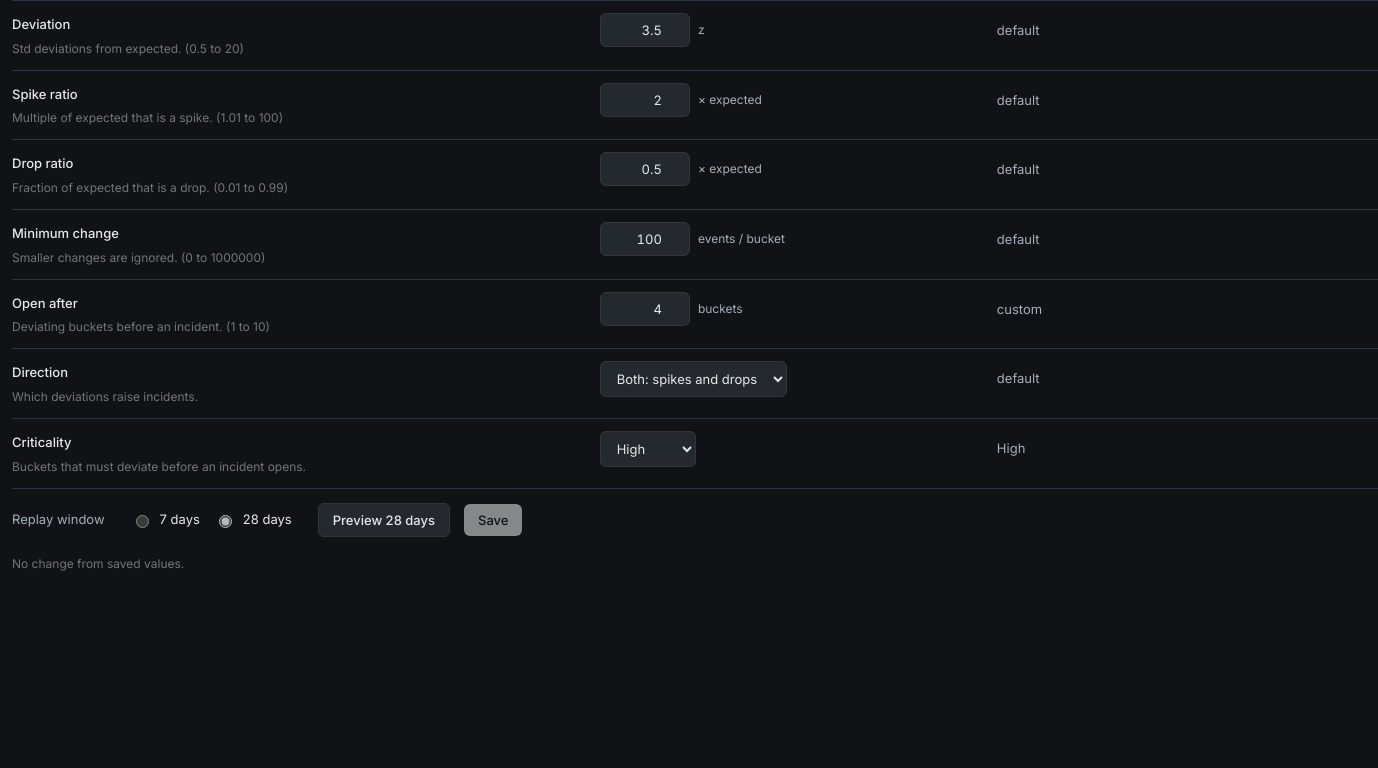
Test case: the tuning form › warns that a narrower direction closes open incidents, only when it does
The image size is (1378, 768).
Check: the text "closes open incidents" is not shown
Select "Spikes only" in the dropdown labelled "Direction". click: [693, 379]
box: top-left (600, 361), bottom-right (787, 397)
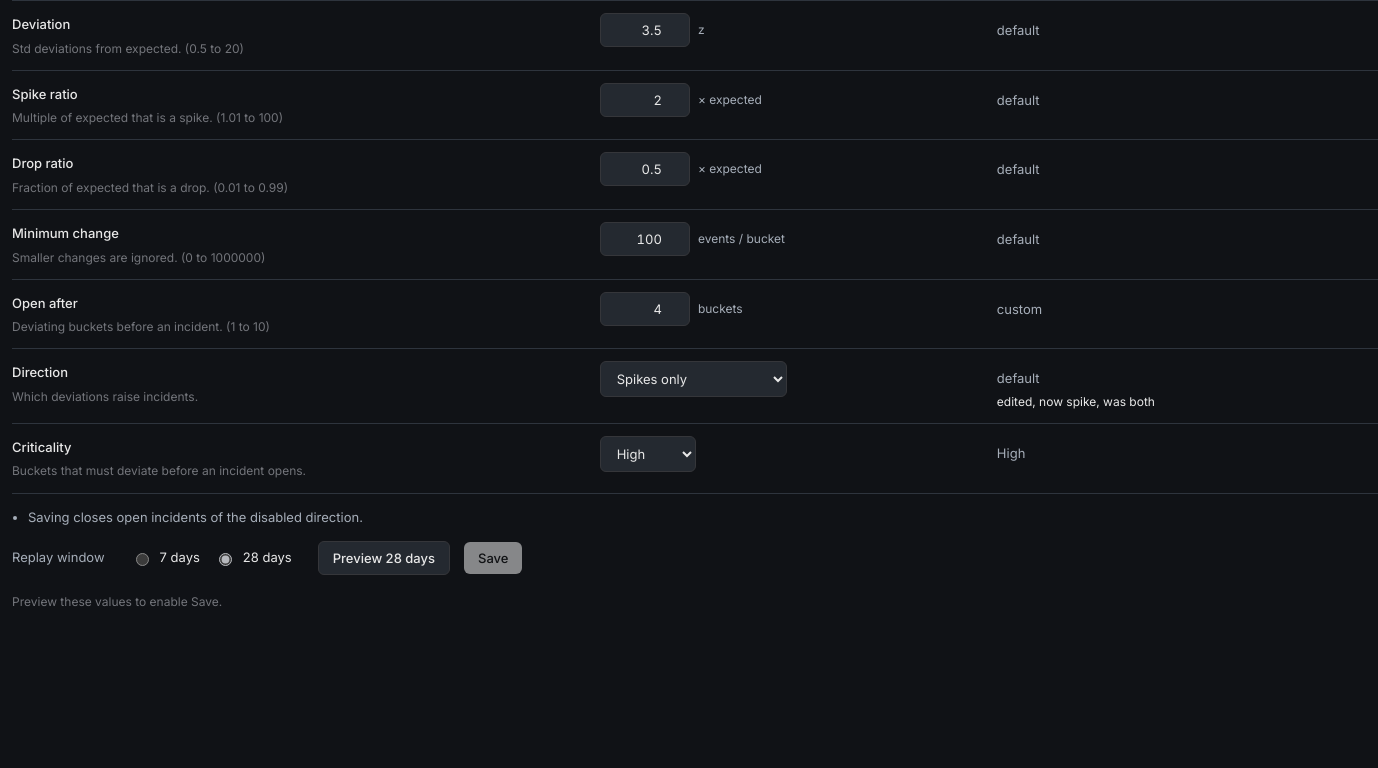
Check: the list item "Saving closes open incidents of the disabled direction." is shown, box top-left (28, 509), bottom-right (363, 525)
Select "Both: spikes and drops" in the dropdown labelled "Direction". click: [693, 379]
box: top-left (600, 361), bottom-right (787, 397)
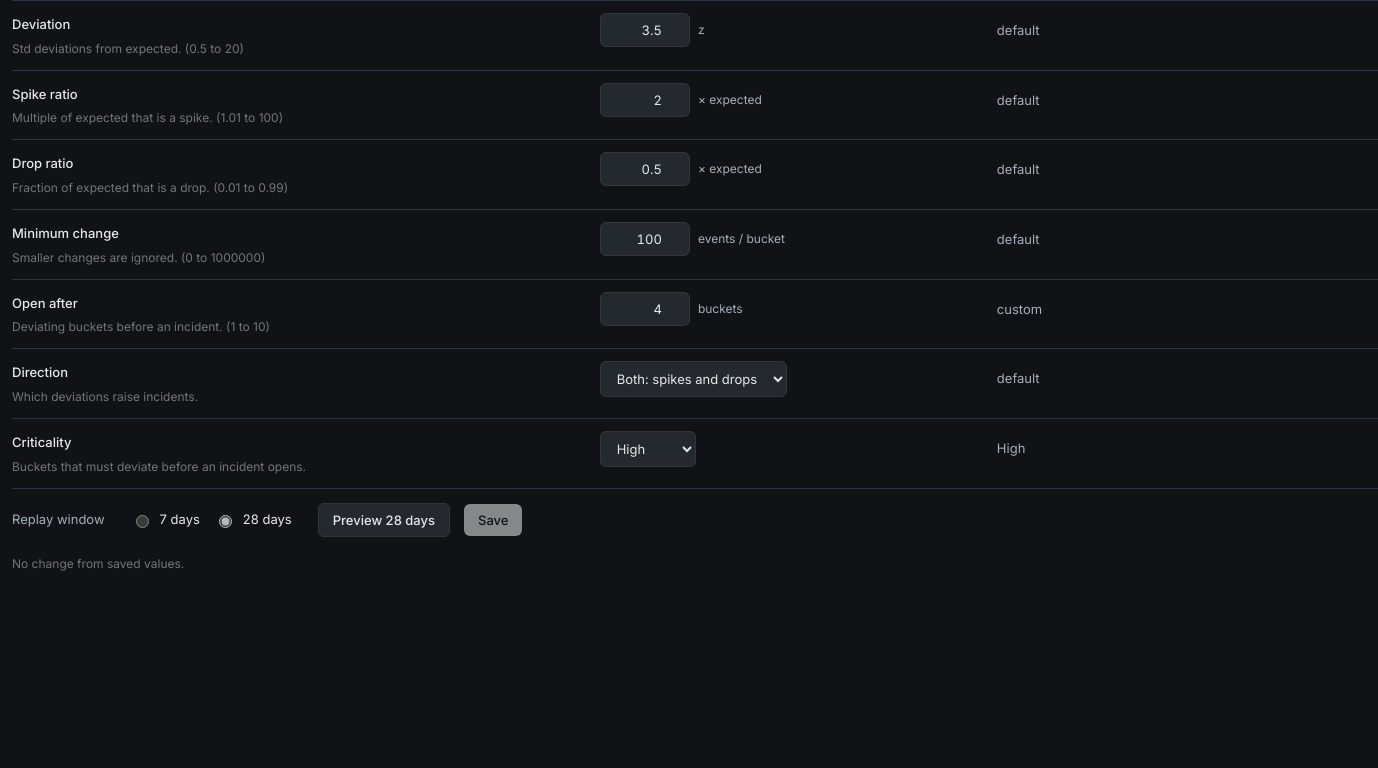
Check: the list item "closes open incidents" is gone
